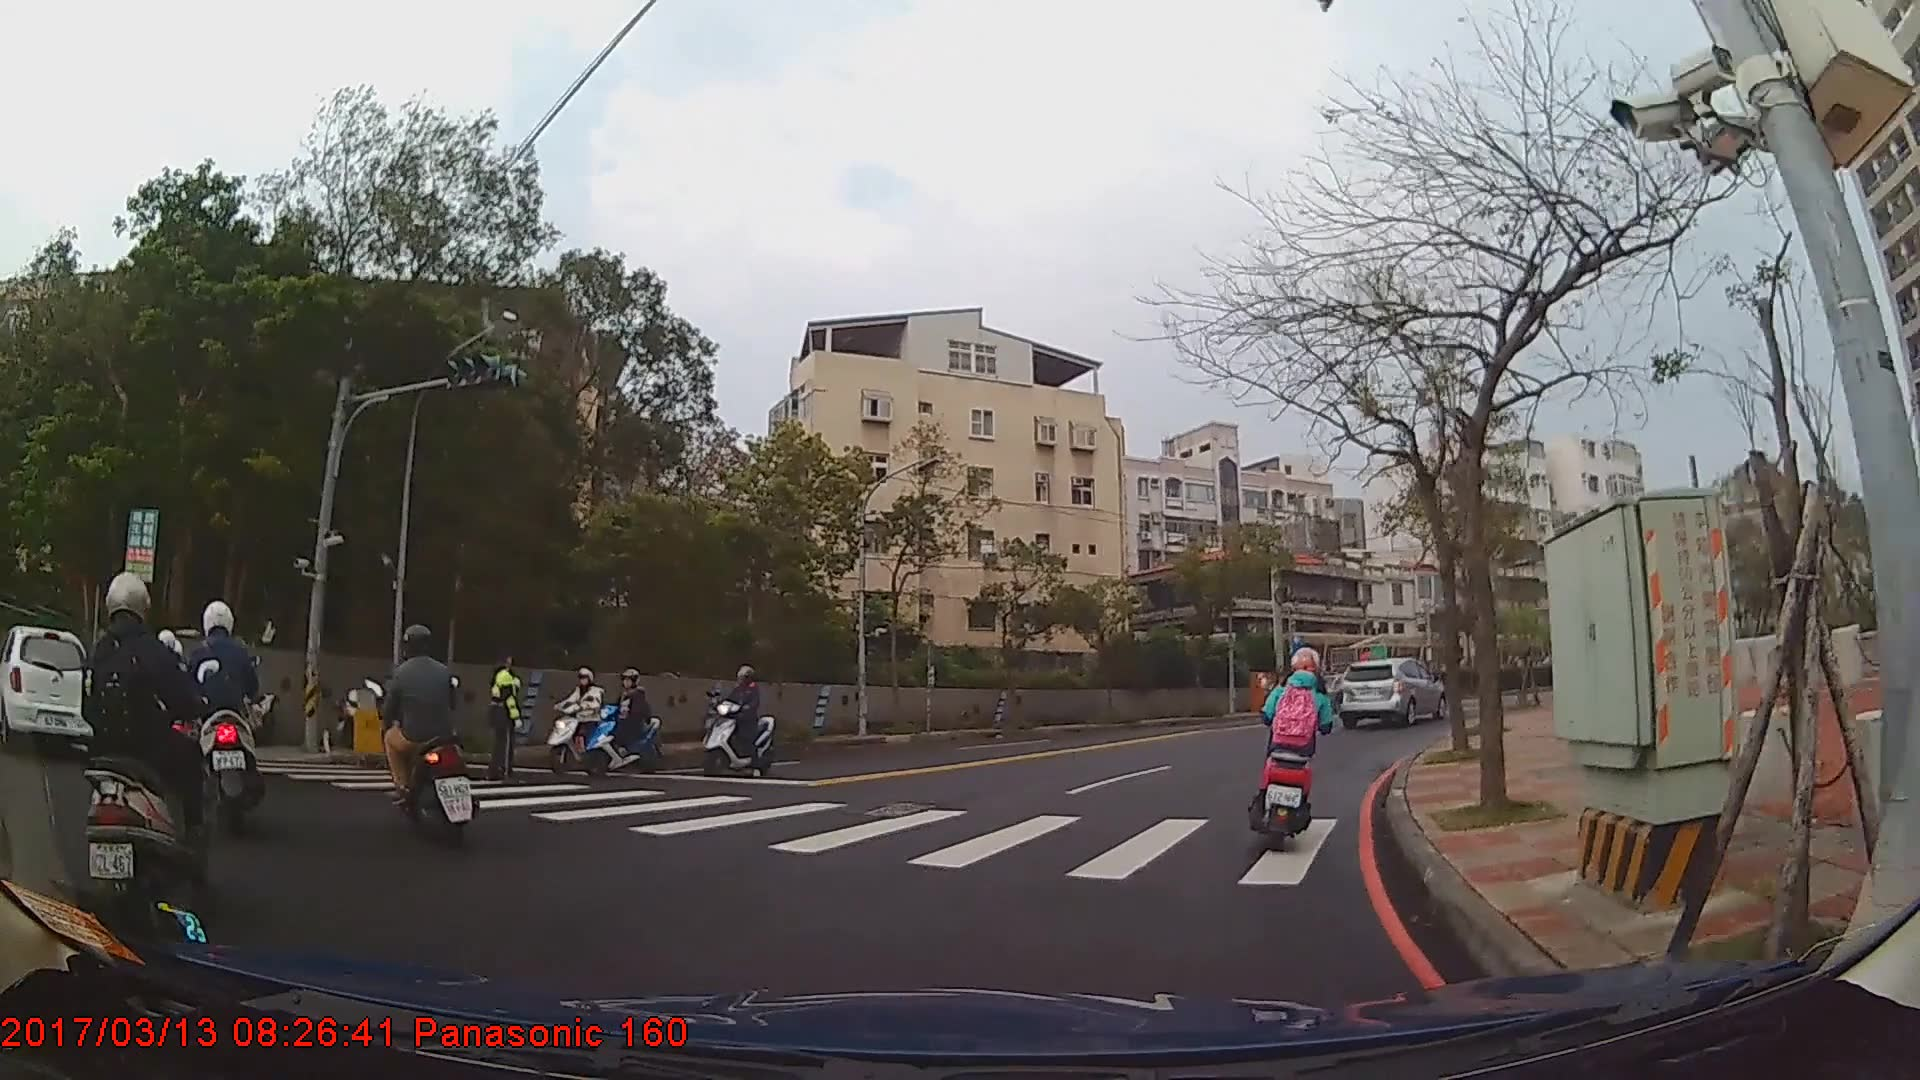pedestrian: (481, 654, 524, 790)
rider: (79, 573, 219, 932), (368, 626, 481, 851), (183, 603, 268, 842), (1254, 646, 1337, 846), (701, 671, 776, 781), (586, 671, 659, 779), (547, 673, 615, 775)
vehicle: (0, 623, 103, 755), (1336, 658, 1447, 729)
